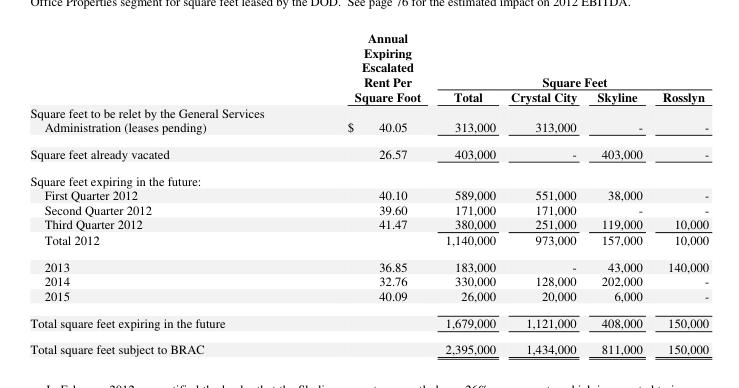table: (29, 28, 708, 356)
table column: (29, 28, 285, 356), (285, 28, 432, 356), (502, 28, 586, 356), (432, 28, 502, 356), (586, 28, 651, 356), (651, 28, 708, 356)
table column header: (29, 28, 708, 104)
table projected row header: (29, 166, 708, 187), (29, 104, 708, 118)
table row: (29, 28, 708, 89), (29, 139, 708, 166), (29, 308, 708, 335), (29, 118, 708, 139), (29, 166, 708, 187), (29, 231, 708, 252), (29, 287, 708, 308), (29, 335, 708, 356), (29, 252, 708, 272), (29, 89, 708, 104), (29, 201, 708, 216), (29, 216, 708, 231), (29, 272, 708, 287), (29, 104, 708, 118), (29, 187, 708, 201)
table spanning cell: (432, 28, 708, 89), (285, 28, 432, 104)
